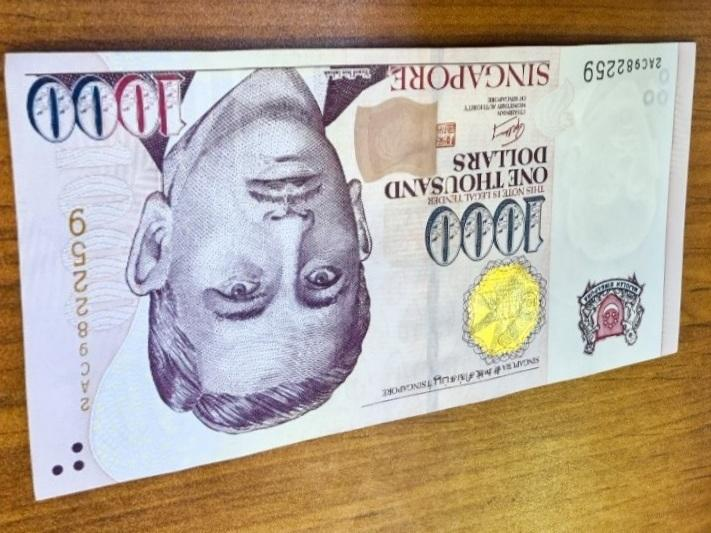1000SingaporeDollar: (30, 53, 675, 475)
